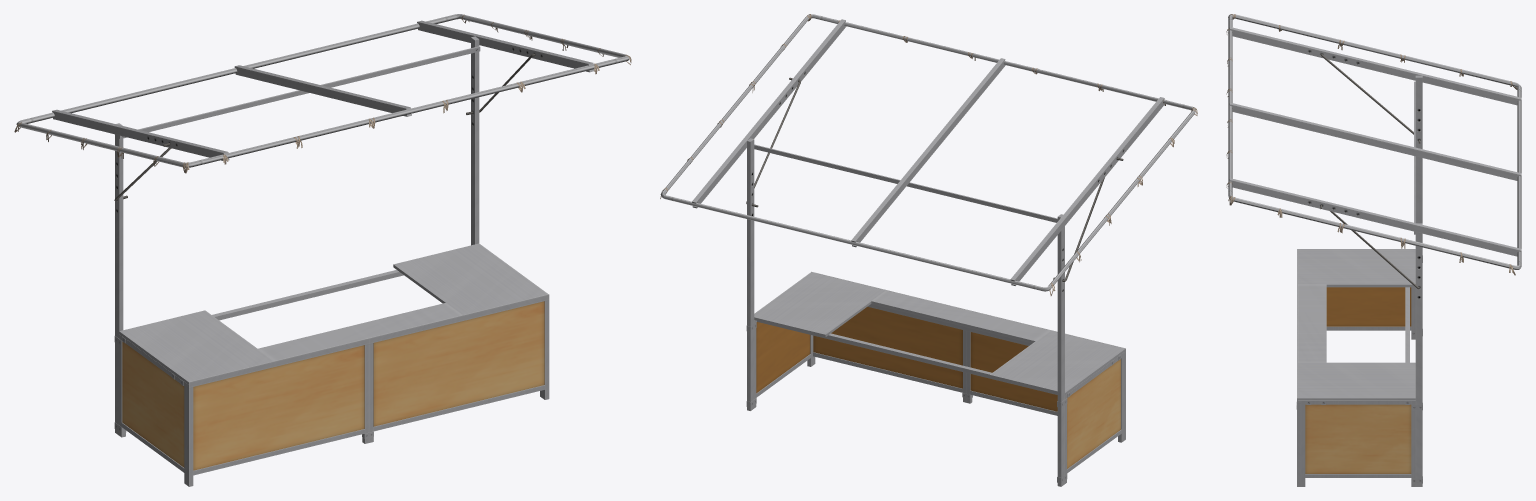
Rendered from jsf_2P_s03_c05_t03.fbx.
The picture shows the model from 3 angles, left to right: view 1: azimuth 30°, elevation 25°; view 2: azimuth 150°, elevation 25°; view 3: azimuth 270°, elevation 25°; orthographic projection. The views are drawn at different scales.
Visible parts, largest first — view 1: Base_s03_c05, Pillar2_s03, Table_2P_s03_t03, Rope_2P_s03; view 2: Base_s03_c05, Pillar2_s03, Table_2P_s03_t03; view 3: Pillar2_s03, Base_s03_c05, Table_2P_s03_t03, Rope_2P_s03.
Boxes of the visible parts, x1,y1,x2,y2 form: Base_s03_c05: (114, 294, 549, 486); Pillar2_s03: (16, 14, 629, 435); Table_2P_s03_t03: (119, 243, 547, 385); Rope_2P_s03: (14, 14, 631, 173); Base_s03_c05: (746, 271, 1125, 483); Pillar2_s03: (660, 14, 1196, 486); Table_2P_s03_t03: (754, 272, 1125, 397); Pillar2_s03: (1228, 14, 1521, 486); Base_s03_c05: (1296, 249, 1422, 486); Table_2P_s03_t03: (1298, 249, 1415, 404); Rope_2P_s03: (1226, 14, 1517, 275).
Size of the model in its own units: 316 by 244 by 211.
